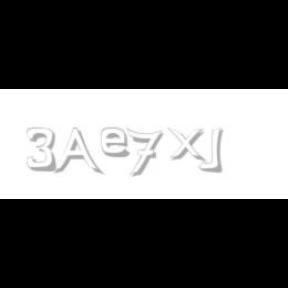3: (26, 128, 58, 172)
7: (126, 128, 163, 178)
A: (52, 128, 100, 176)
J: (198, 128, 222, 172)
e: (100, 128, 134, 158)
x: (167, 128, 209, 162)
